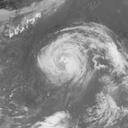cyclone: (34, 22, 118, 88)
